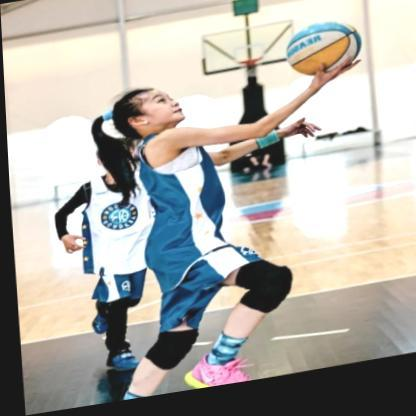basketball: (282, 25, 361, 90)
